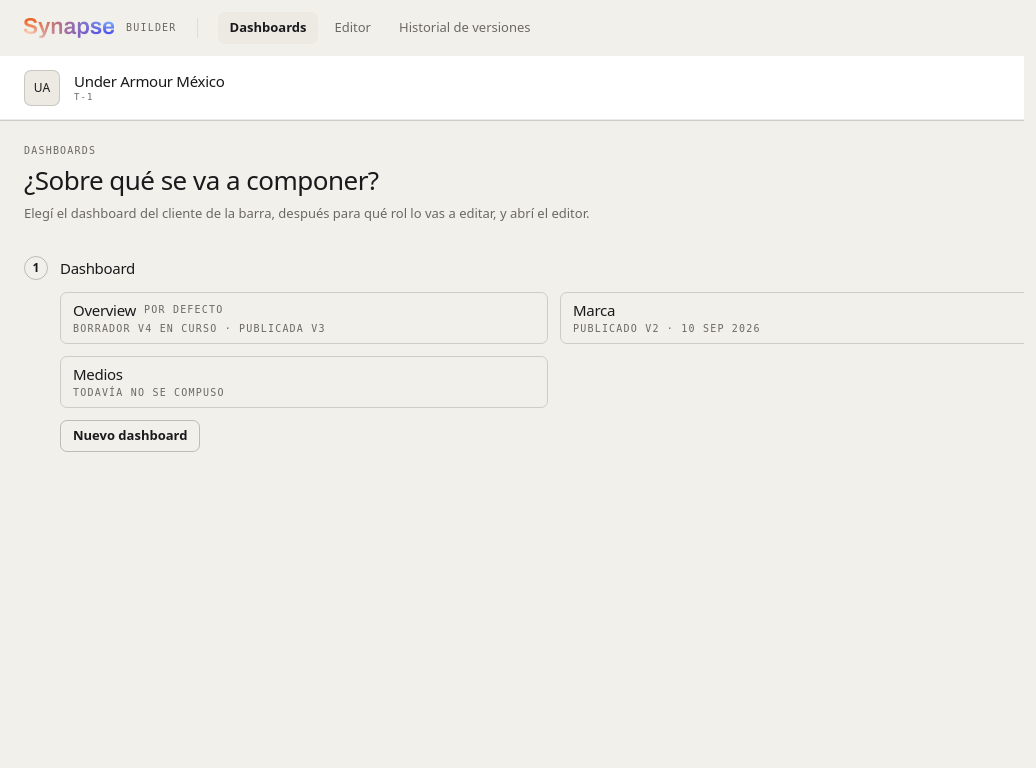
it: §7.2 · los roles · paso 2 › el rol FILTRA las pestañas del editor · y «Todos los roles» las vuelve a mostrar
Click the button "Overview Por defecto Borrador v4 en curso · publicada v3" at [105, 310], box [60,292,548,344]
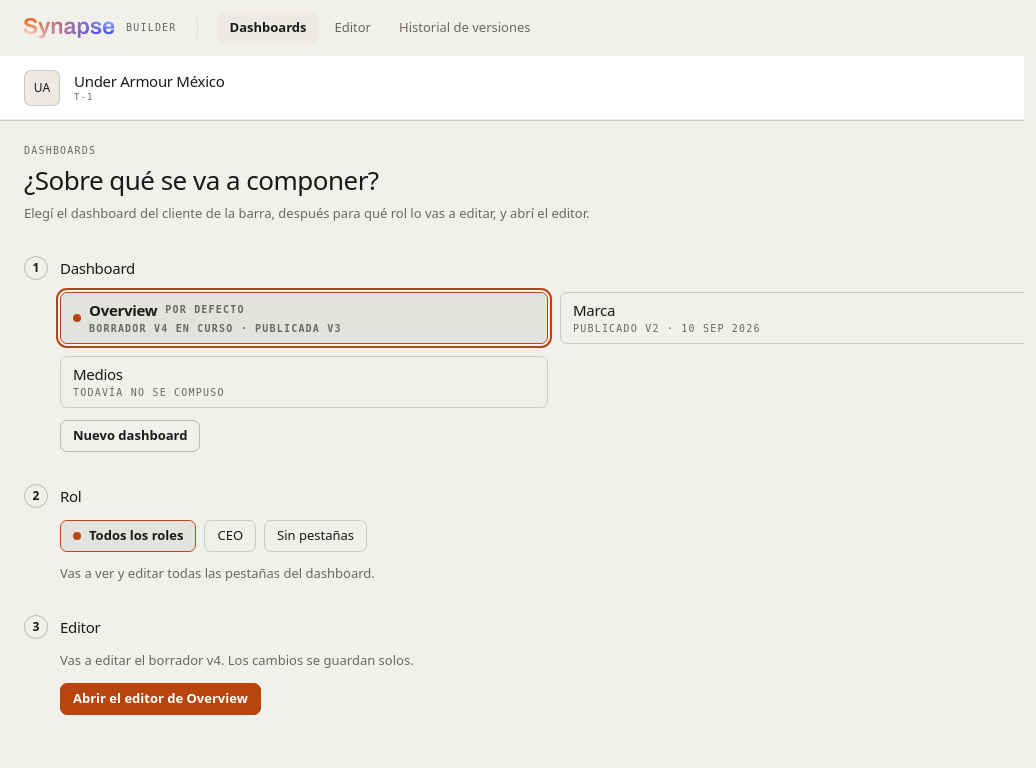
Click the button "CEO" at [230, 536], box [204,520,256,552]
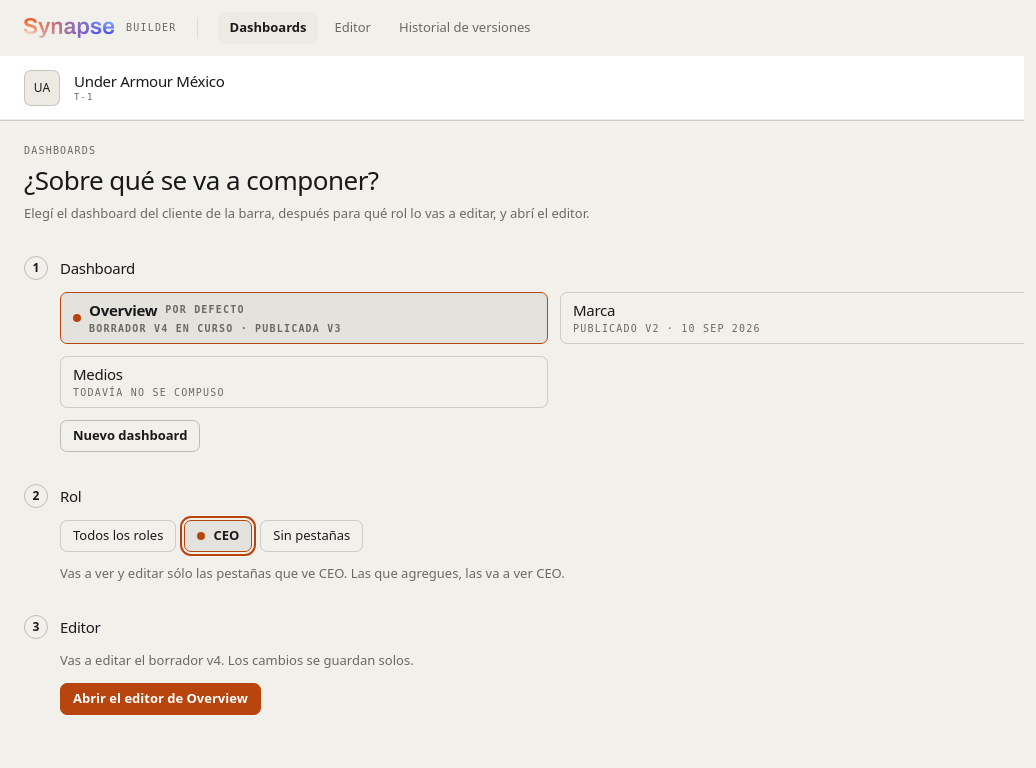
Click the button "Abrir el editor de Overview" at [160, 699], box [60,683,261,715]
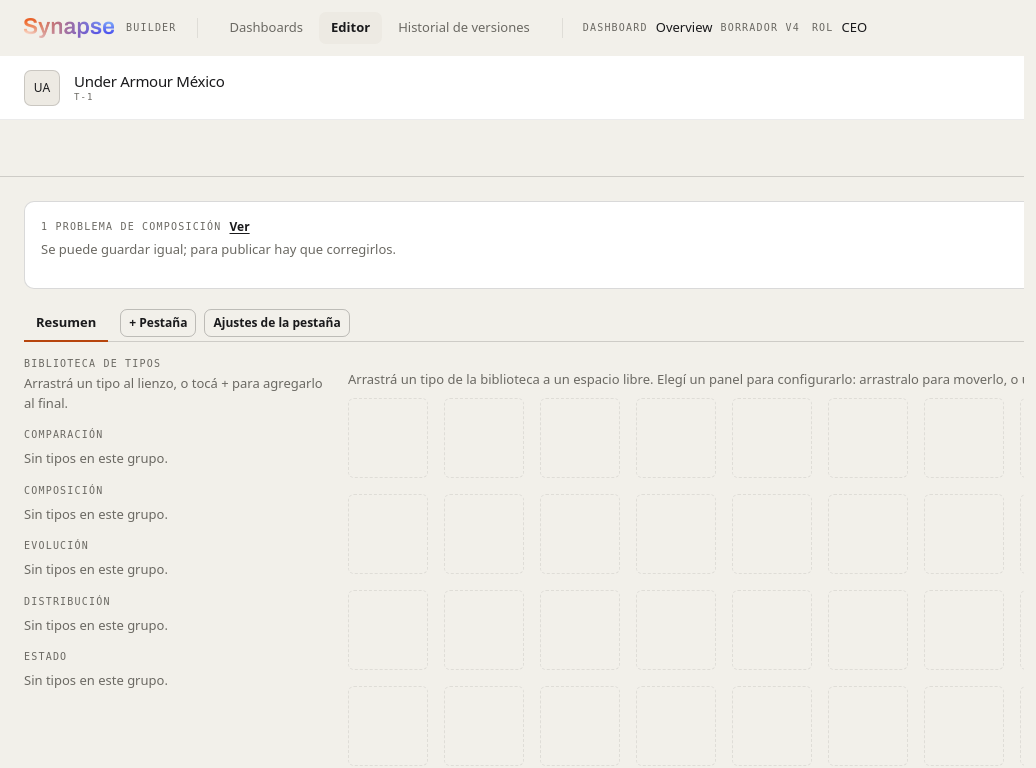
Check: the tabs read "Resumen", in this order, box [24,304,108,342]
Click the button "Dashboards" at [266, 28], box [218,12,315,44]
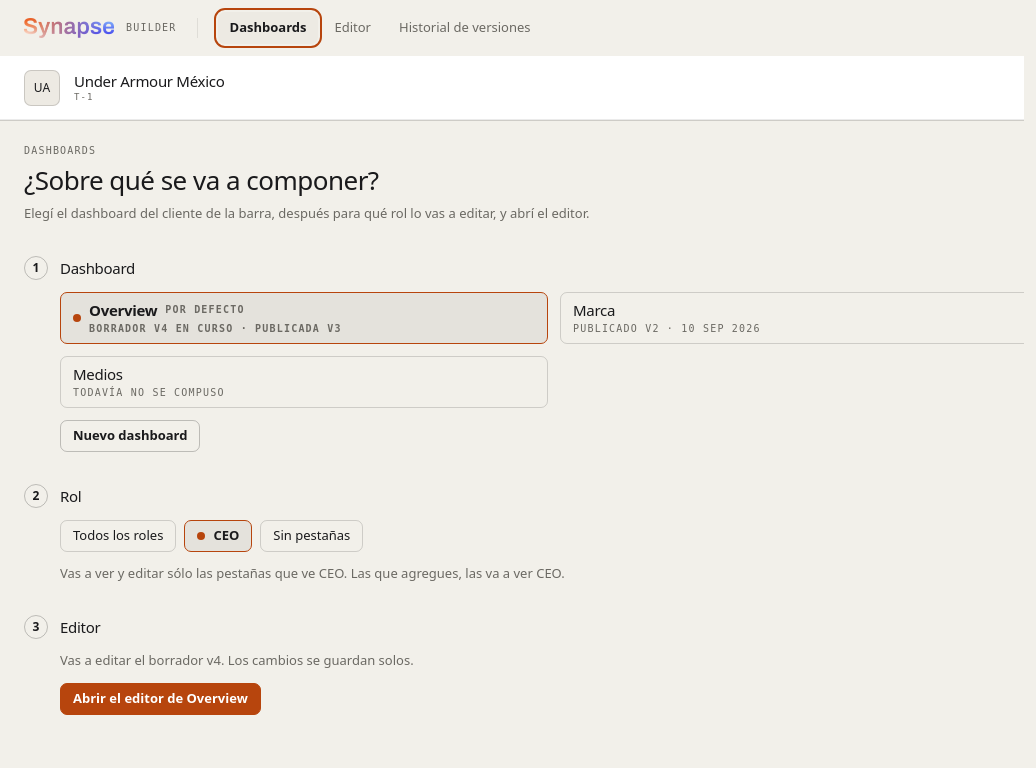
Click the button "Todos los roles" at [118, 536], box [60,520,176,552]
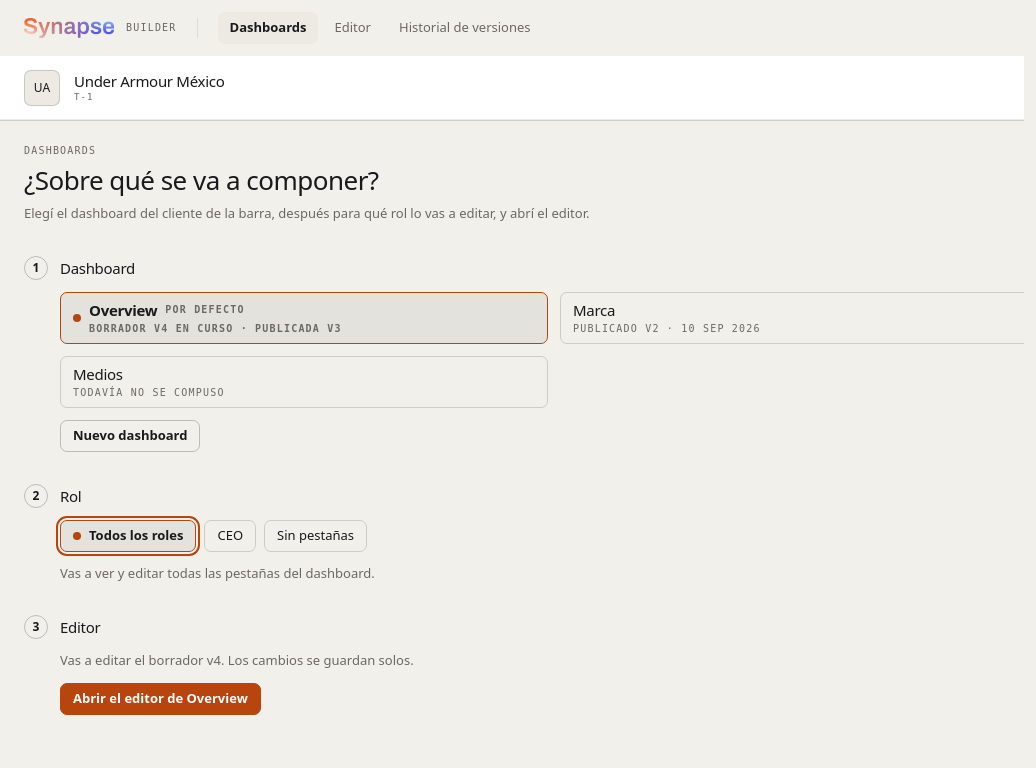
Click the button "Abrir el editor de Overview" at [160, 699], box [60,683,261,715]
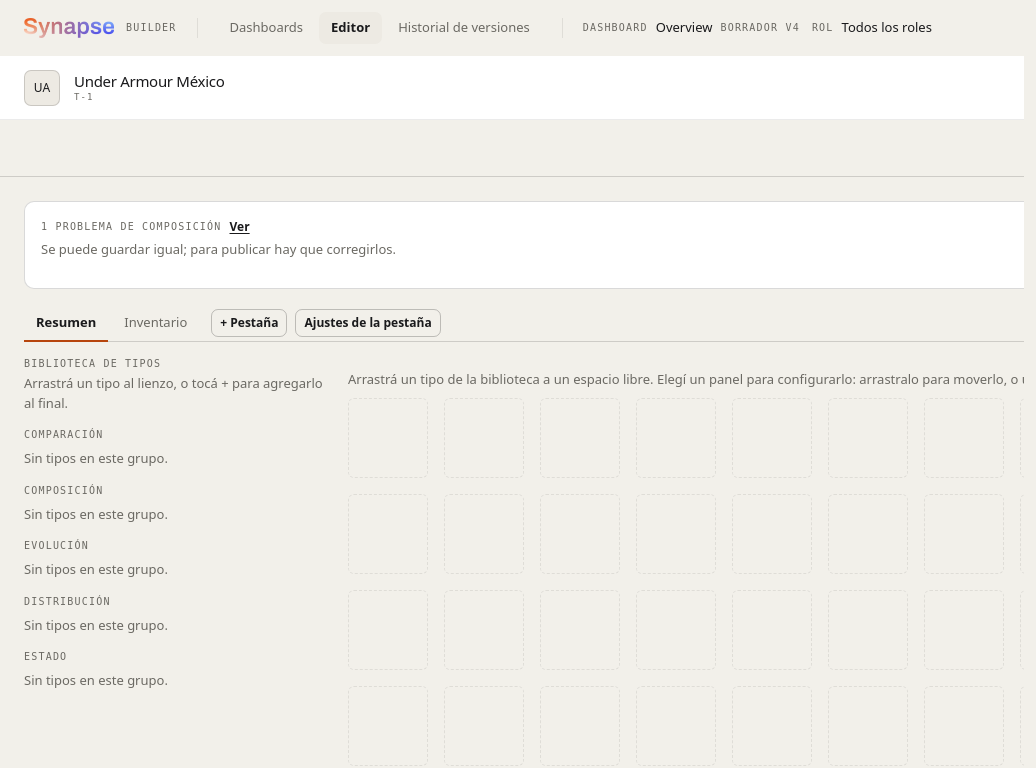
Check: the tabs read "Resumen", "Inventario", in this order, box [24,304,108,342]; [112,304,199,342]
